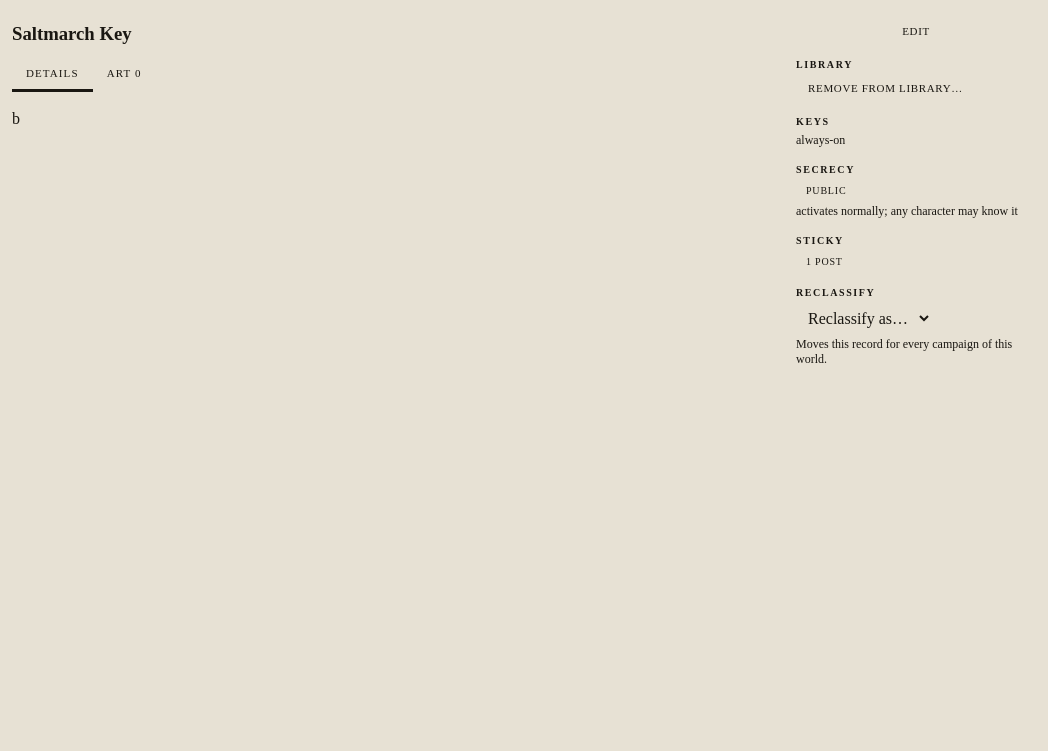
Scenario: every kind carries the Activation disclosure
Expected: the text "1 post" is shown, [806,256,843,267]
Step 1. Click the button "Edit" → (916, 31), box [796,19,1036,43]
(page scrolled)
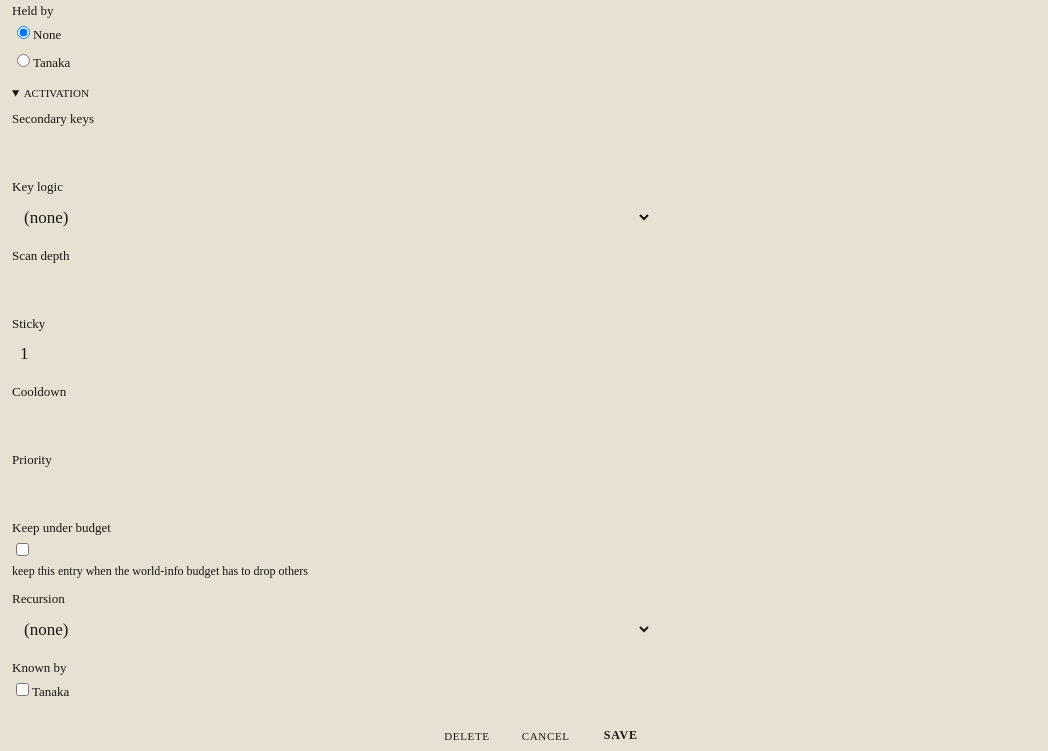
Expected: the element with class "activation-settings" is shown, [12,87,652,704]
